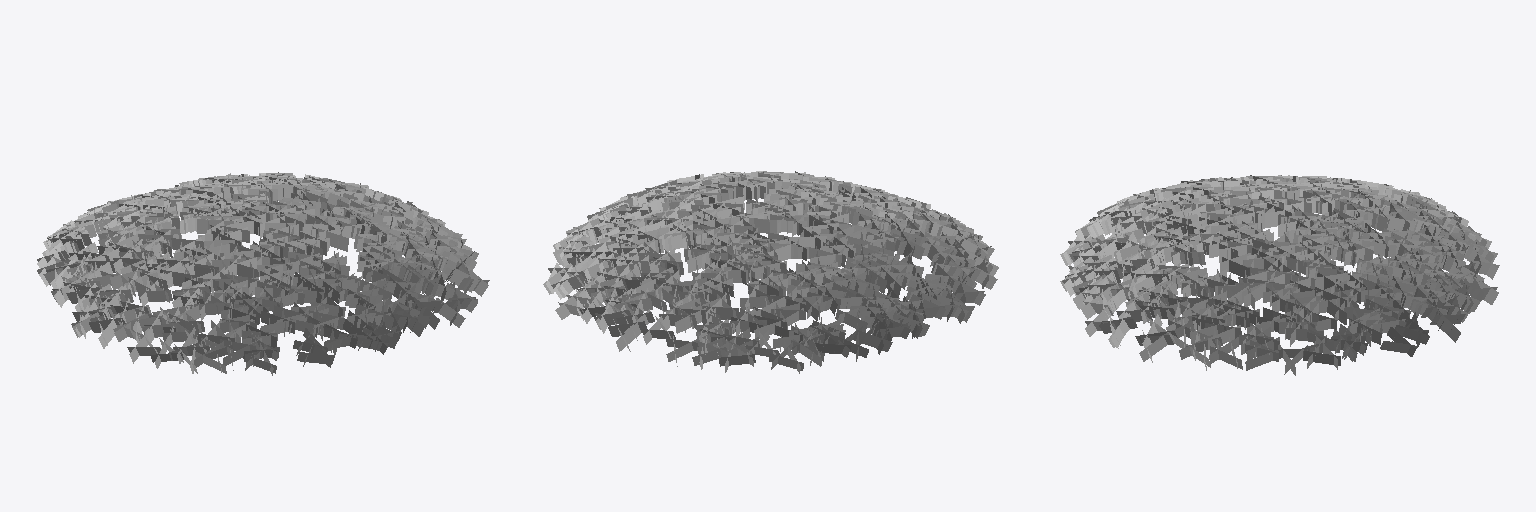
The model's file is sm_grass_terrace05x2.OBJ.
3 renders of one model, left to right at view 1: azimuth 30°, elevation 25°; view 2: azimuth 150°, elevation 25°; view 3: azimuth 270°, elevation 25°, orthographic.
Parts seen in each view (by area): view 1: ZBrushPolyMesh3D; view 2: ZBrushPolyMesh3D; view 3: ZBrushPolyMesh3D.
Part boxes in pixels (left/top/right/bottom): ZBrushPolyMesh3D: left=37, top=172, right=489, bottom=375; ZBrushPolyMesh3D: left=543, top=171, right=998, bottom=373; ZBrushPolyMesh3D: left=1060, top=175, right=1499, bottom=375.
Size of the model in its own units: 2.46 by 0.358 by 2.41.